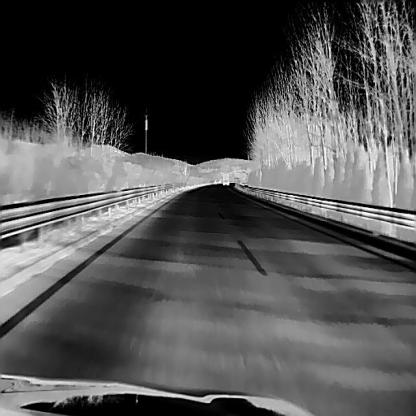truck: (221, 172, 229, 184)
